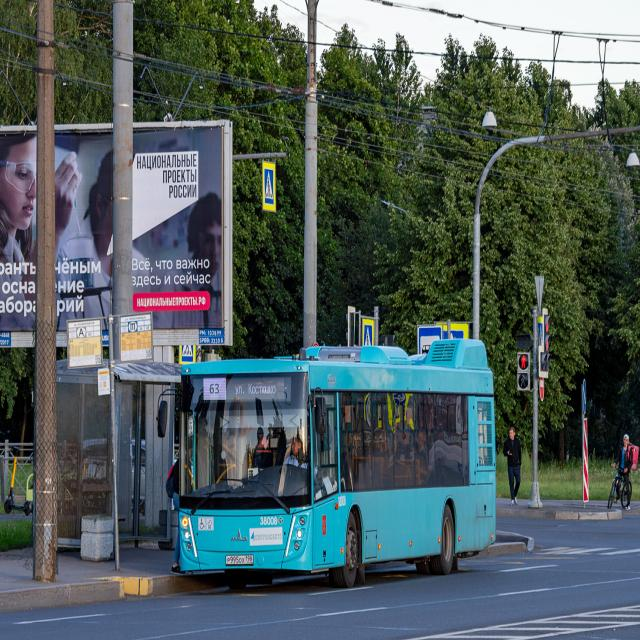number-of-bus: (210, 383, 222, 396)
